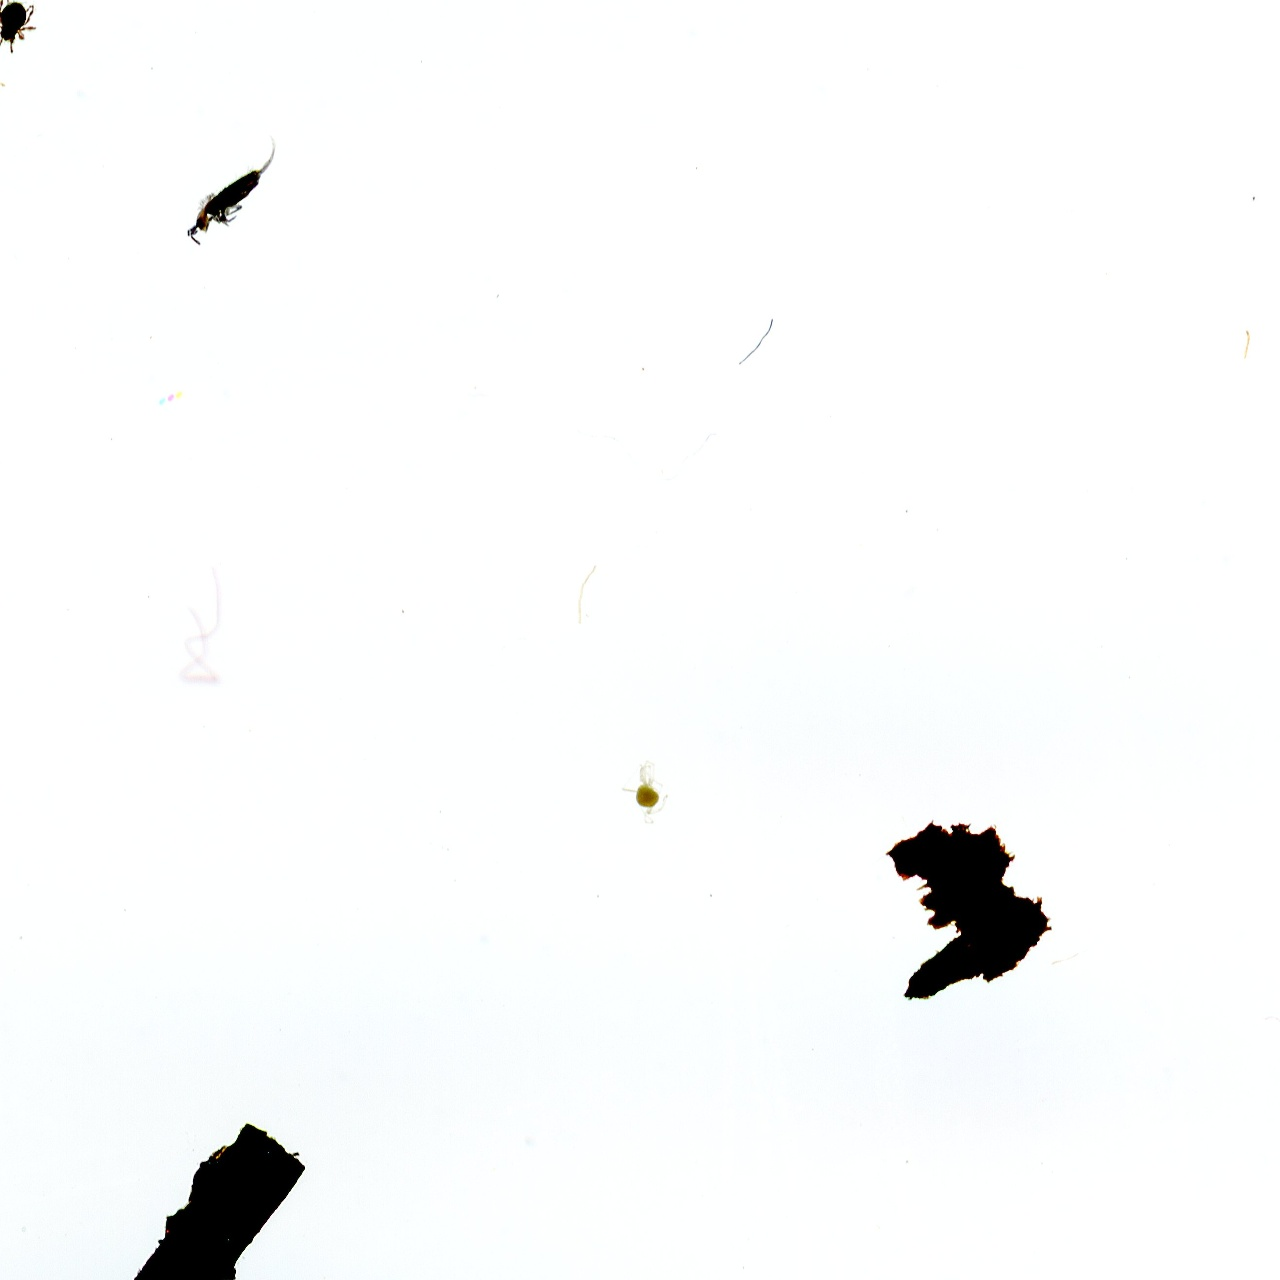arthropod: (171, 121, 297, 259), (617, 758, 669, 825), (0, 0, 39, 56)
